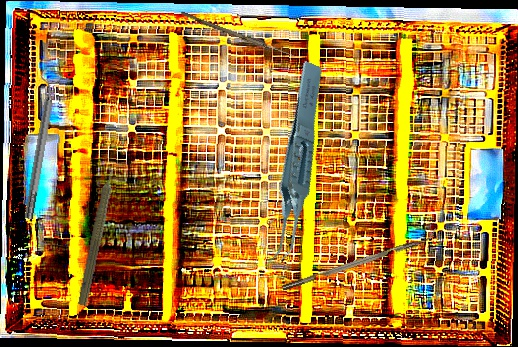Chopper: (279, 227, 440, 291)
Fixation Ring: (15, 69, 66, 221)
Handpiece: (75, 160, 123, 308)
Surgical Spoon: (179, 11, 297, 59)
Tissue Forceps: (226, 60, 362, 267)
